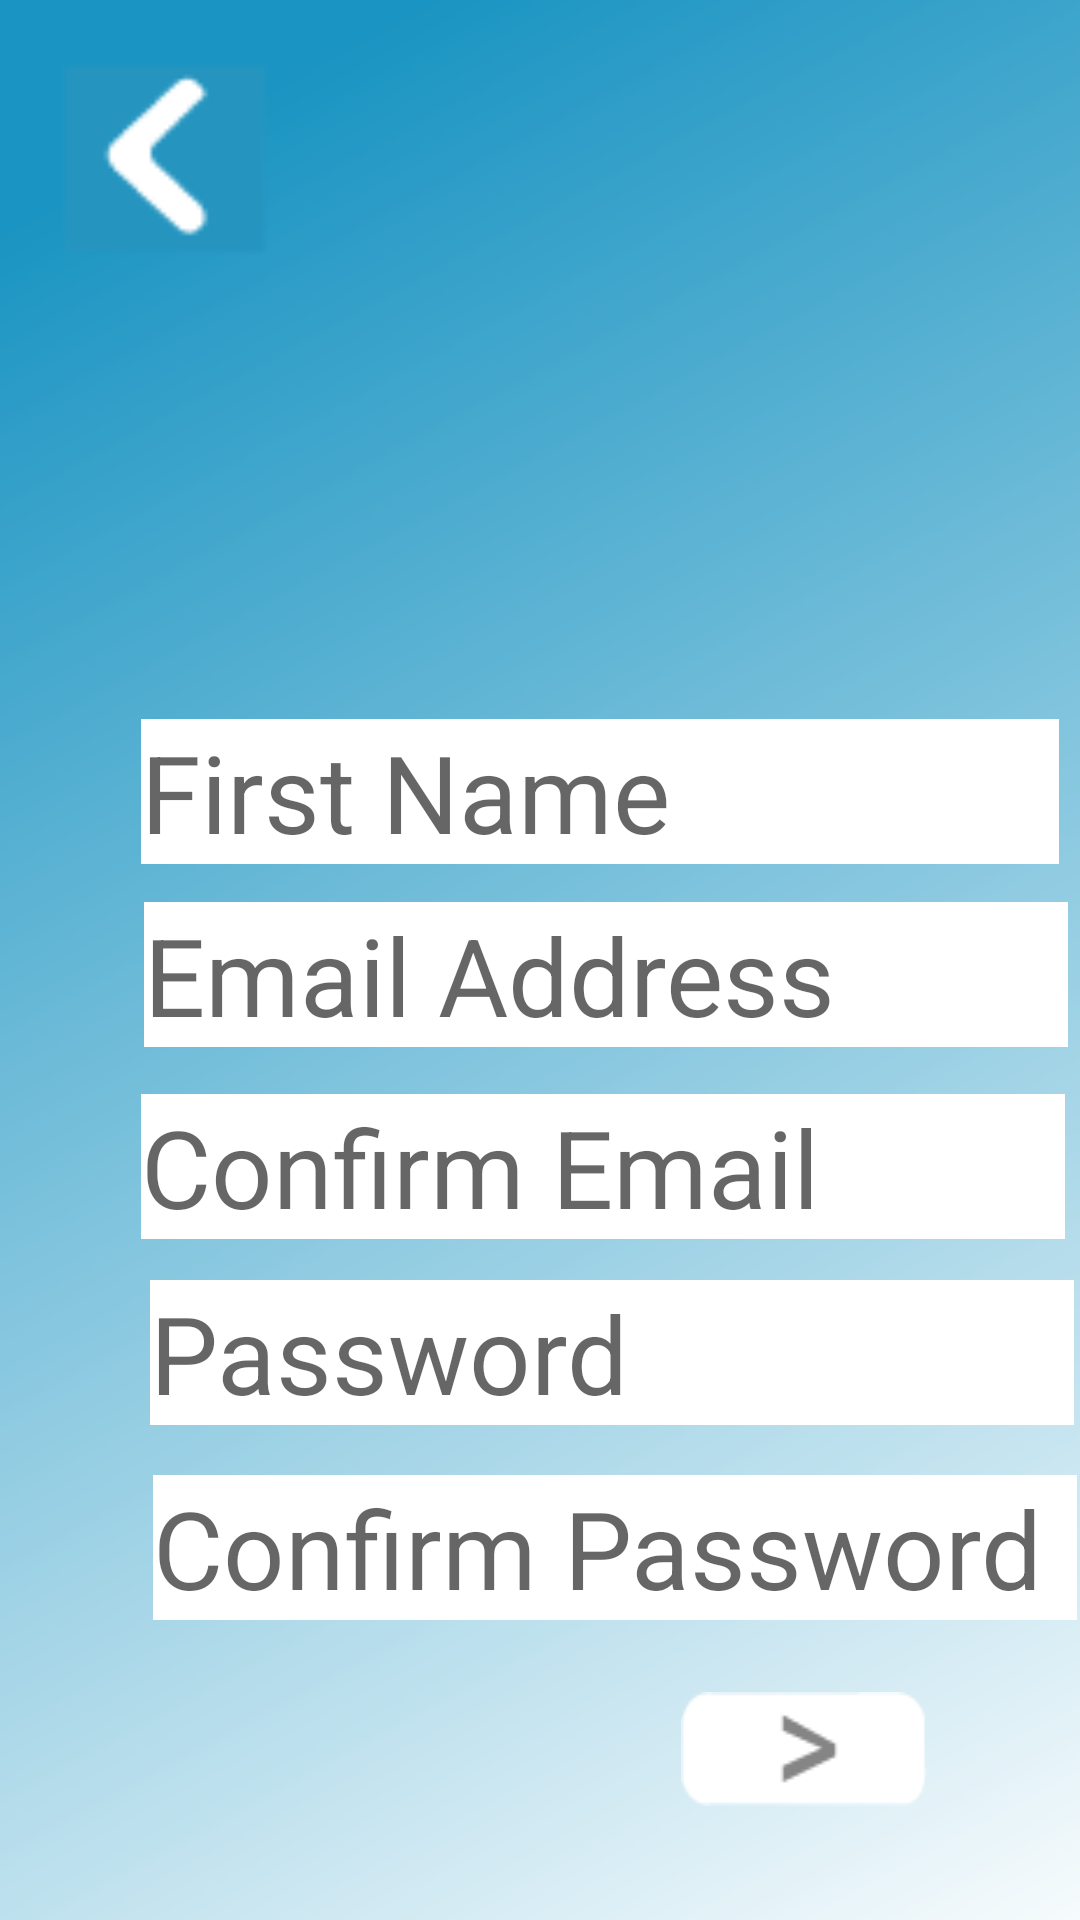

Screen size 1080w x 1920h. Icon name, then its center in pixels as (x=x, y=y):
backarrow: (x=156, y=156)
next: (x=804, y=1748)
